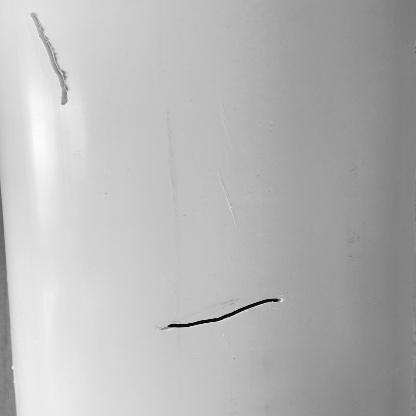fengxi: (165, 293, 290, 335)
sunshang: (24, 8, 79, 110)
